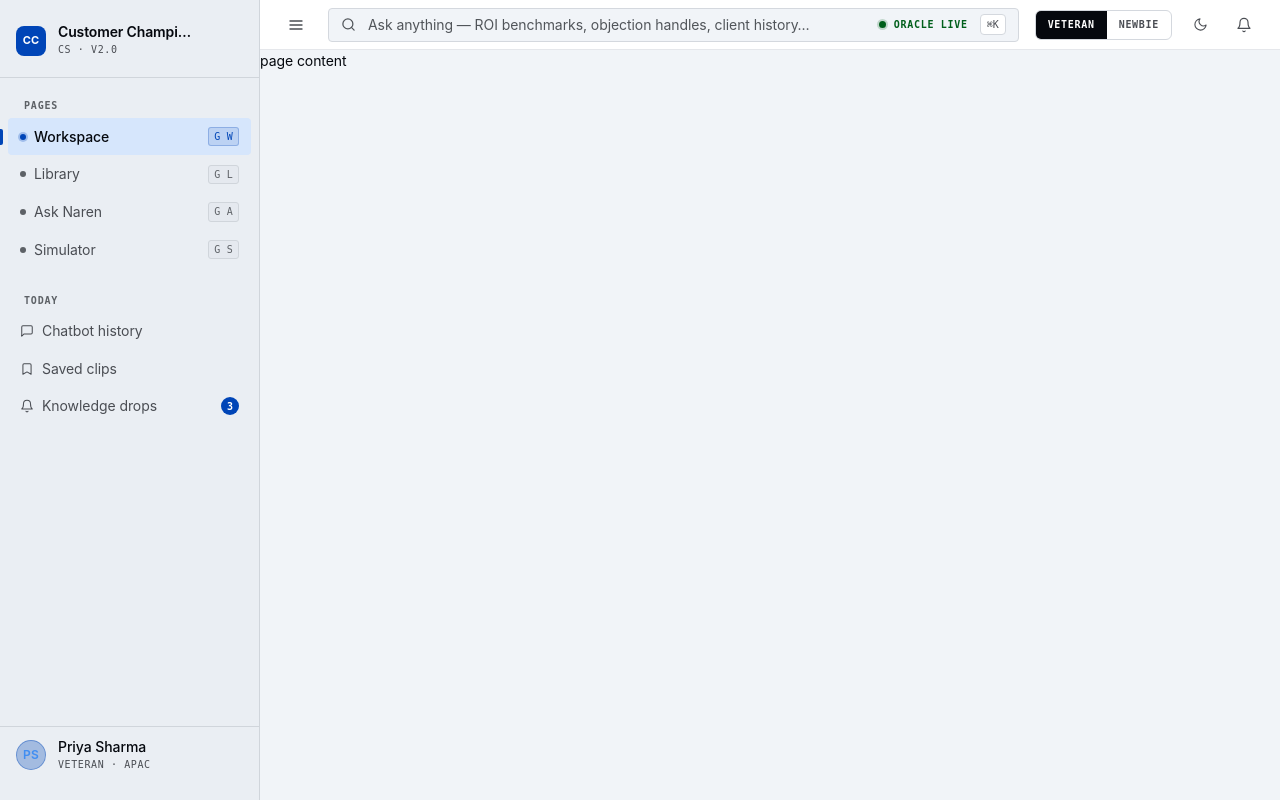
Test case: AppShell oracle › selects on click
Click the dropdown named "Knowledge Oracle" at (617,25), box [368,14,867,35]
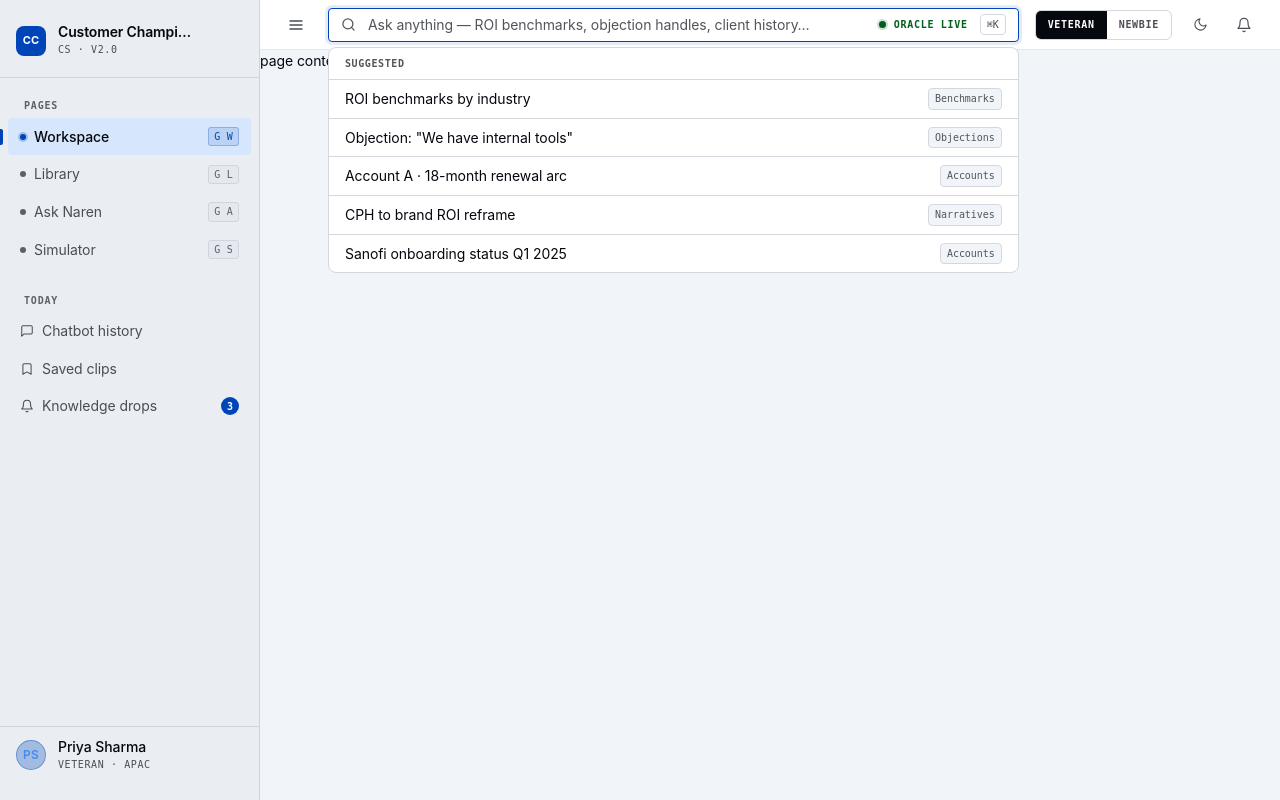
Click the option "Account A · 18-month renewal arc Accounts" at (456,176), box [329,157,1018,196]
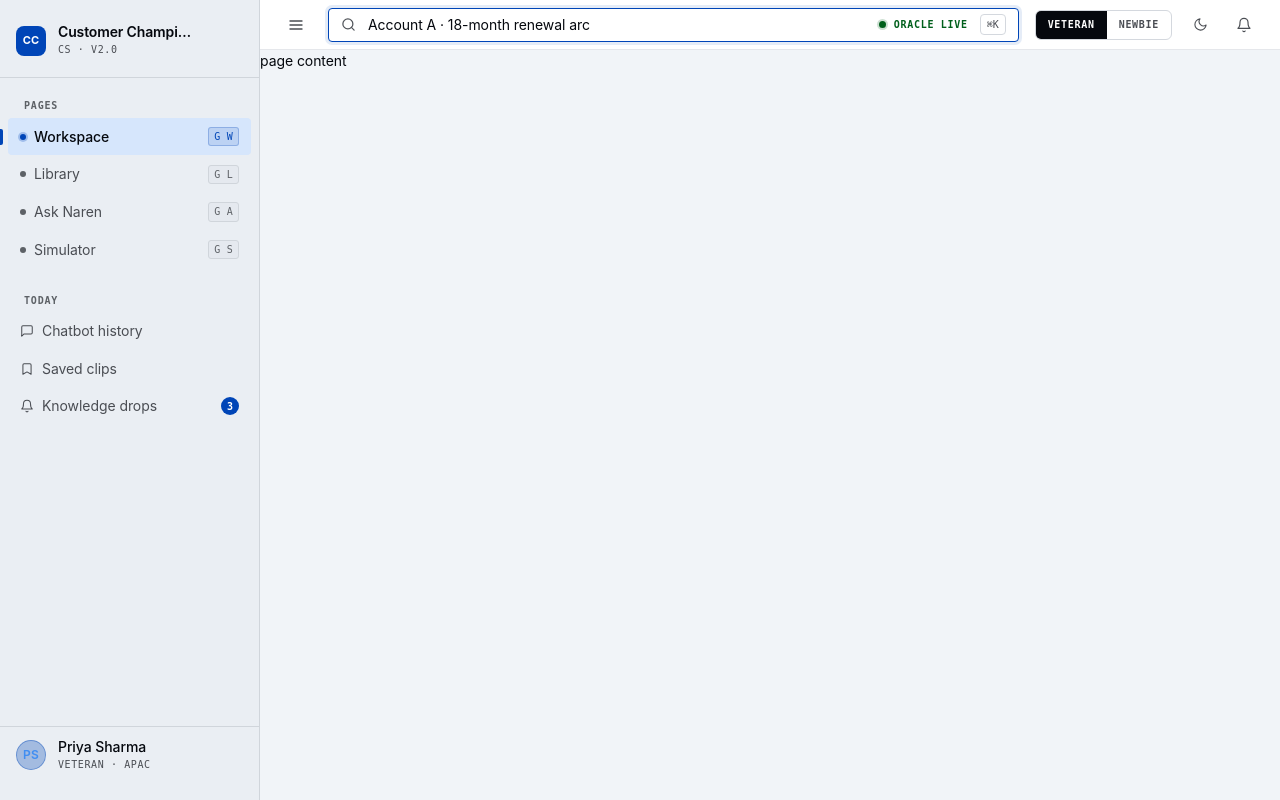
Now the dropdown named "Knowledge Oracle" holds "Account A · 18-month renewal arc", box [368,14,867,35]
